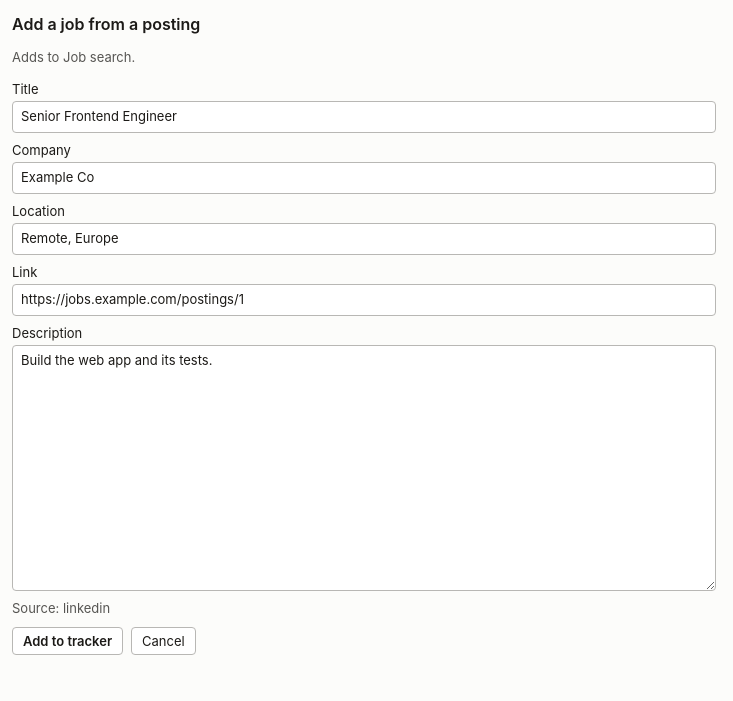
it: a refusal without a message is read by the refusal reader
The width and height of the screenshot is (733, 701).
Step 1. Click the button "Add to tracker" → (68, 640), box [12,626,123,654]
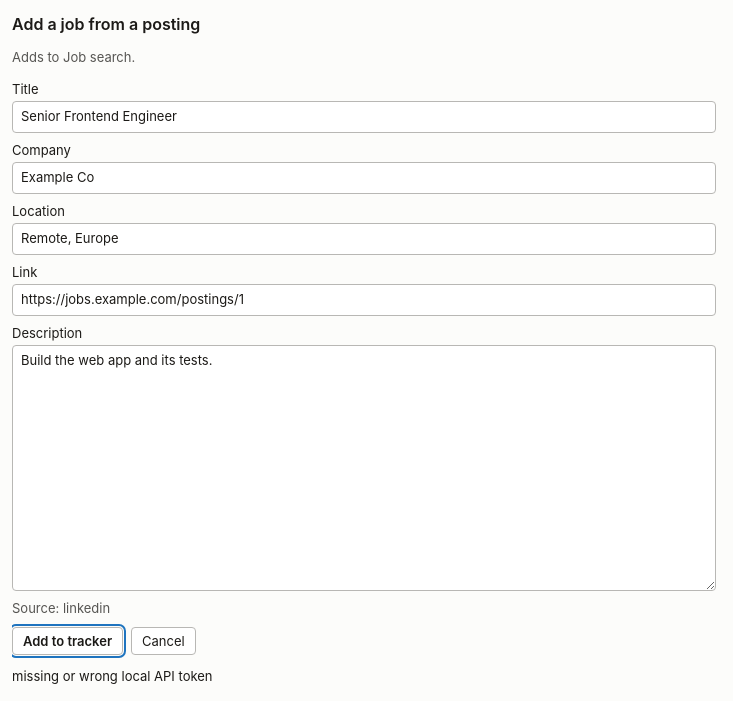
Check: the field labelled "Title" holds "Senior Frontend Engineer", box [12,101,716,132]
Check: the message reads "missing or wrong local API token", box [12,668,212,684]
